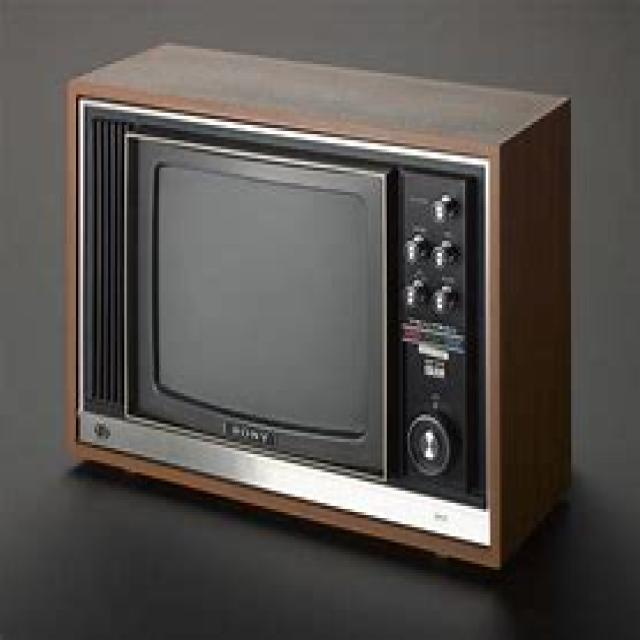tv: (62, 40, 571, 570)
